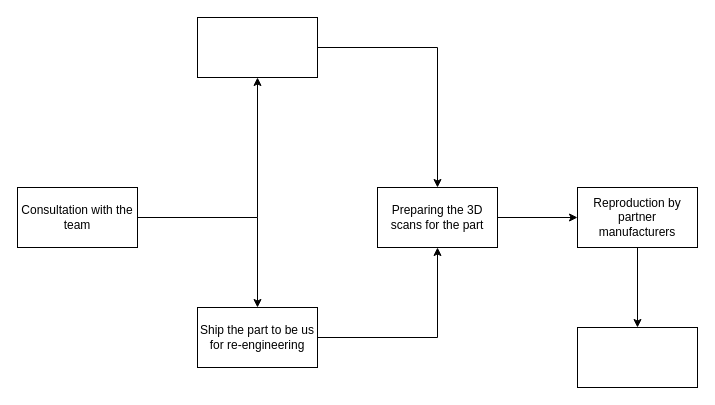
The diagram is 715 pixels wide and 405 high, and some of its shapes have lost their labels. The shapes that lost their labels are listed below. From the top down, each one's centre as x and y in pixels, then its label:
point 257,47: Visit at the workplace to scan the parts to be reingeenered
point 637,357: Shipping the part back to the manufacturers
